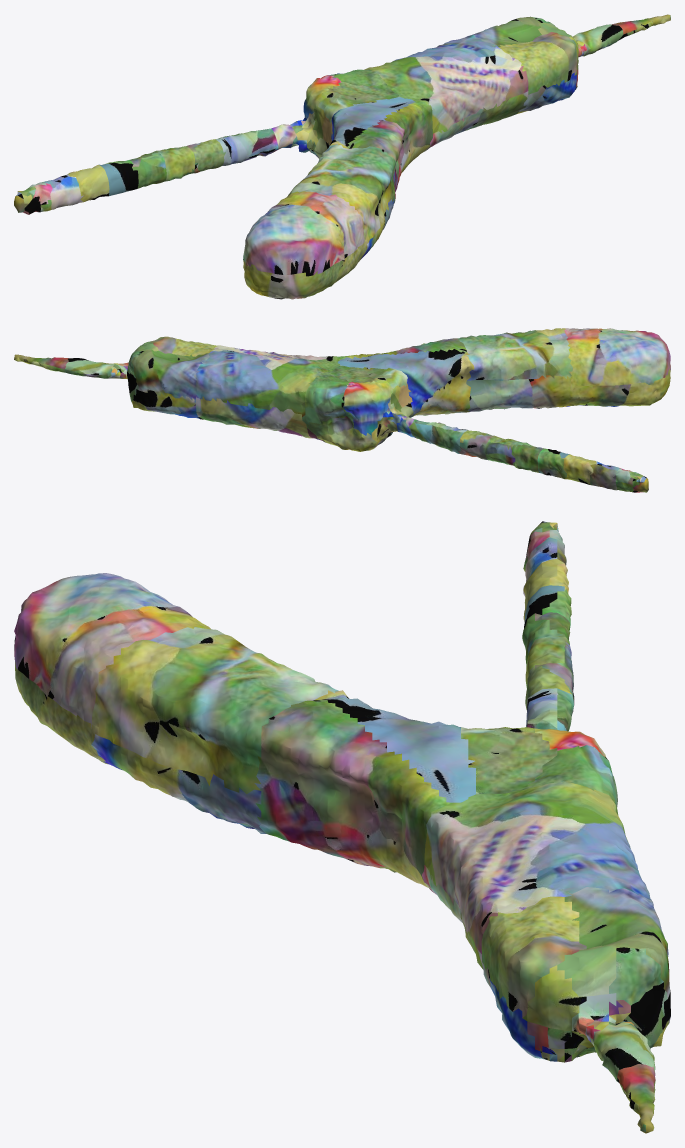
File: Multi_Tool_0822025354_preview.obj
The picture shows the model from 3 angles, top to bottom: view 1: azimuth 30°, elevation 25°; view 2: azimuth 150°, elevation 25°; view 3: azimuth 270°, elevation 25°; orthographic projection. The views are drawn at different scales.
Parts seen in each view (by area): view 1: Mesh1; view 2: Mesh1; view 3: Mesh1.
Boxes of the visible parts, x1=… form: Mesh1: x1=14, y1=14, x2=670, y2=299; Mesh1: x1=14, y1=328, x2=670, y2=492; Mesh1: x1=14, y1=521, x2=670, y2=1133.
Bounding box in the file's own units: 1.2 × 0.1315 × 0.5607.
